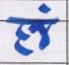anusvara: (39, 3, 50, 13)
